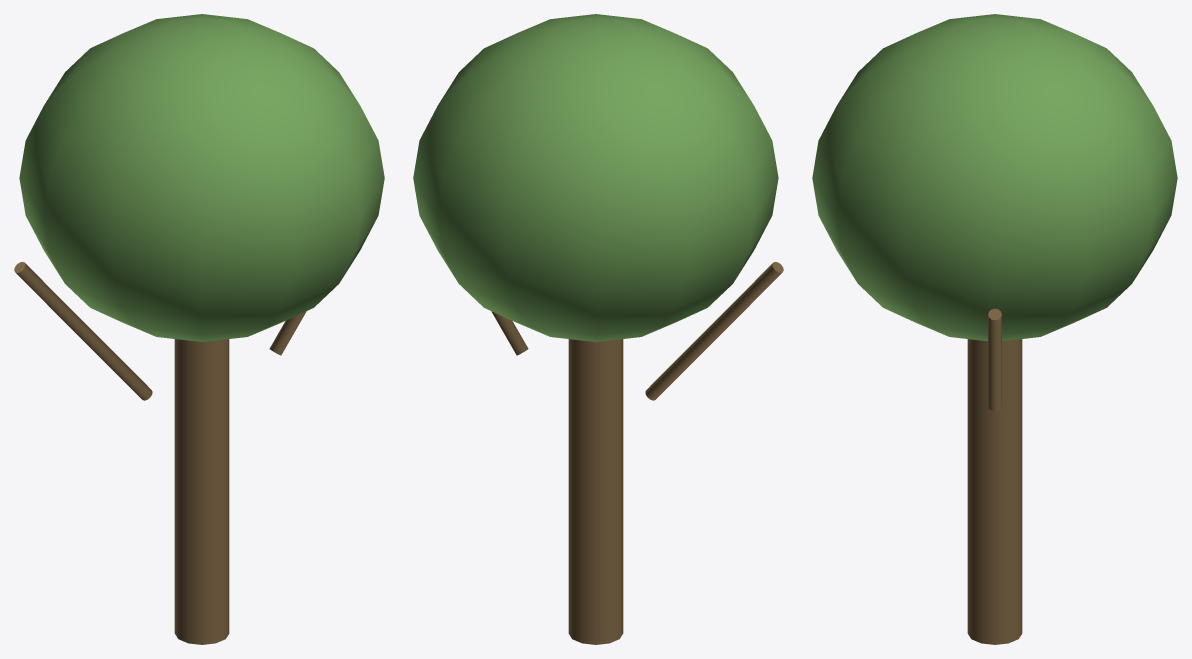
Rendered from env-med-oak.glb.
The picture shows the model from 3 angles, left to right: view 1: azimuth 30°, elevation 25°; view 2: azimuth 150°, elevation 25°; view 3: azimuth 270°, elevation 25°; orthographic projection.
Bounding box in the file's own units: 4.5 × 7.25 × 4.
